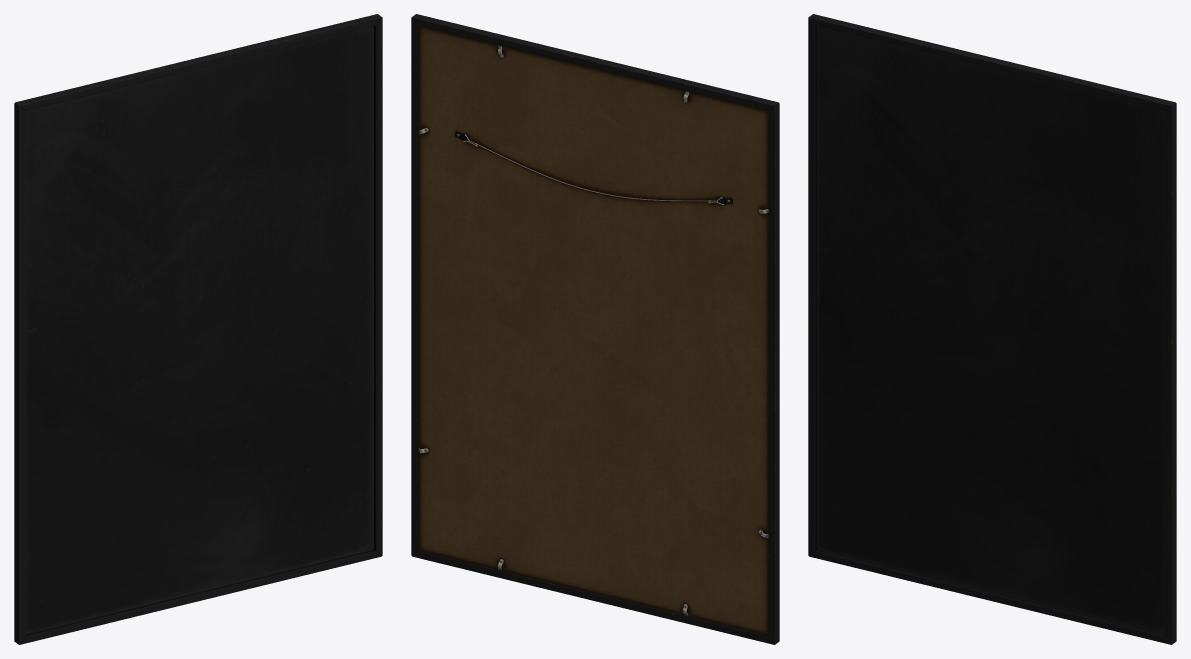
File: hanging_picture_frame_01_1k.gltf
3 views of the same model, side by side, from view 1: azimuth 30°, elevation 25°; view 2: azimuth 150°, elevation 25°; view 3: azimuth 330°, elevation 25° (orthographic).
Parts seen in each view (by area): view 1: hanging_picture_frame_01; view 2: hanging_picture_frame_01; view 3: hanging_picture_frame_01.
Part boxes in pixels (x1,y1,x2,y2): hanging_picture_frame_01: (14, 14, 382, 644); hanging_picture_frame_01: (411, 14, 779, 644); hanging_picture_frame_01: (808, 14, 1176, 644).
Size of the model in its own units: 0.594 by 0.841 by 0.0157.
Materials: 3 (3 with a texture image).
